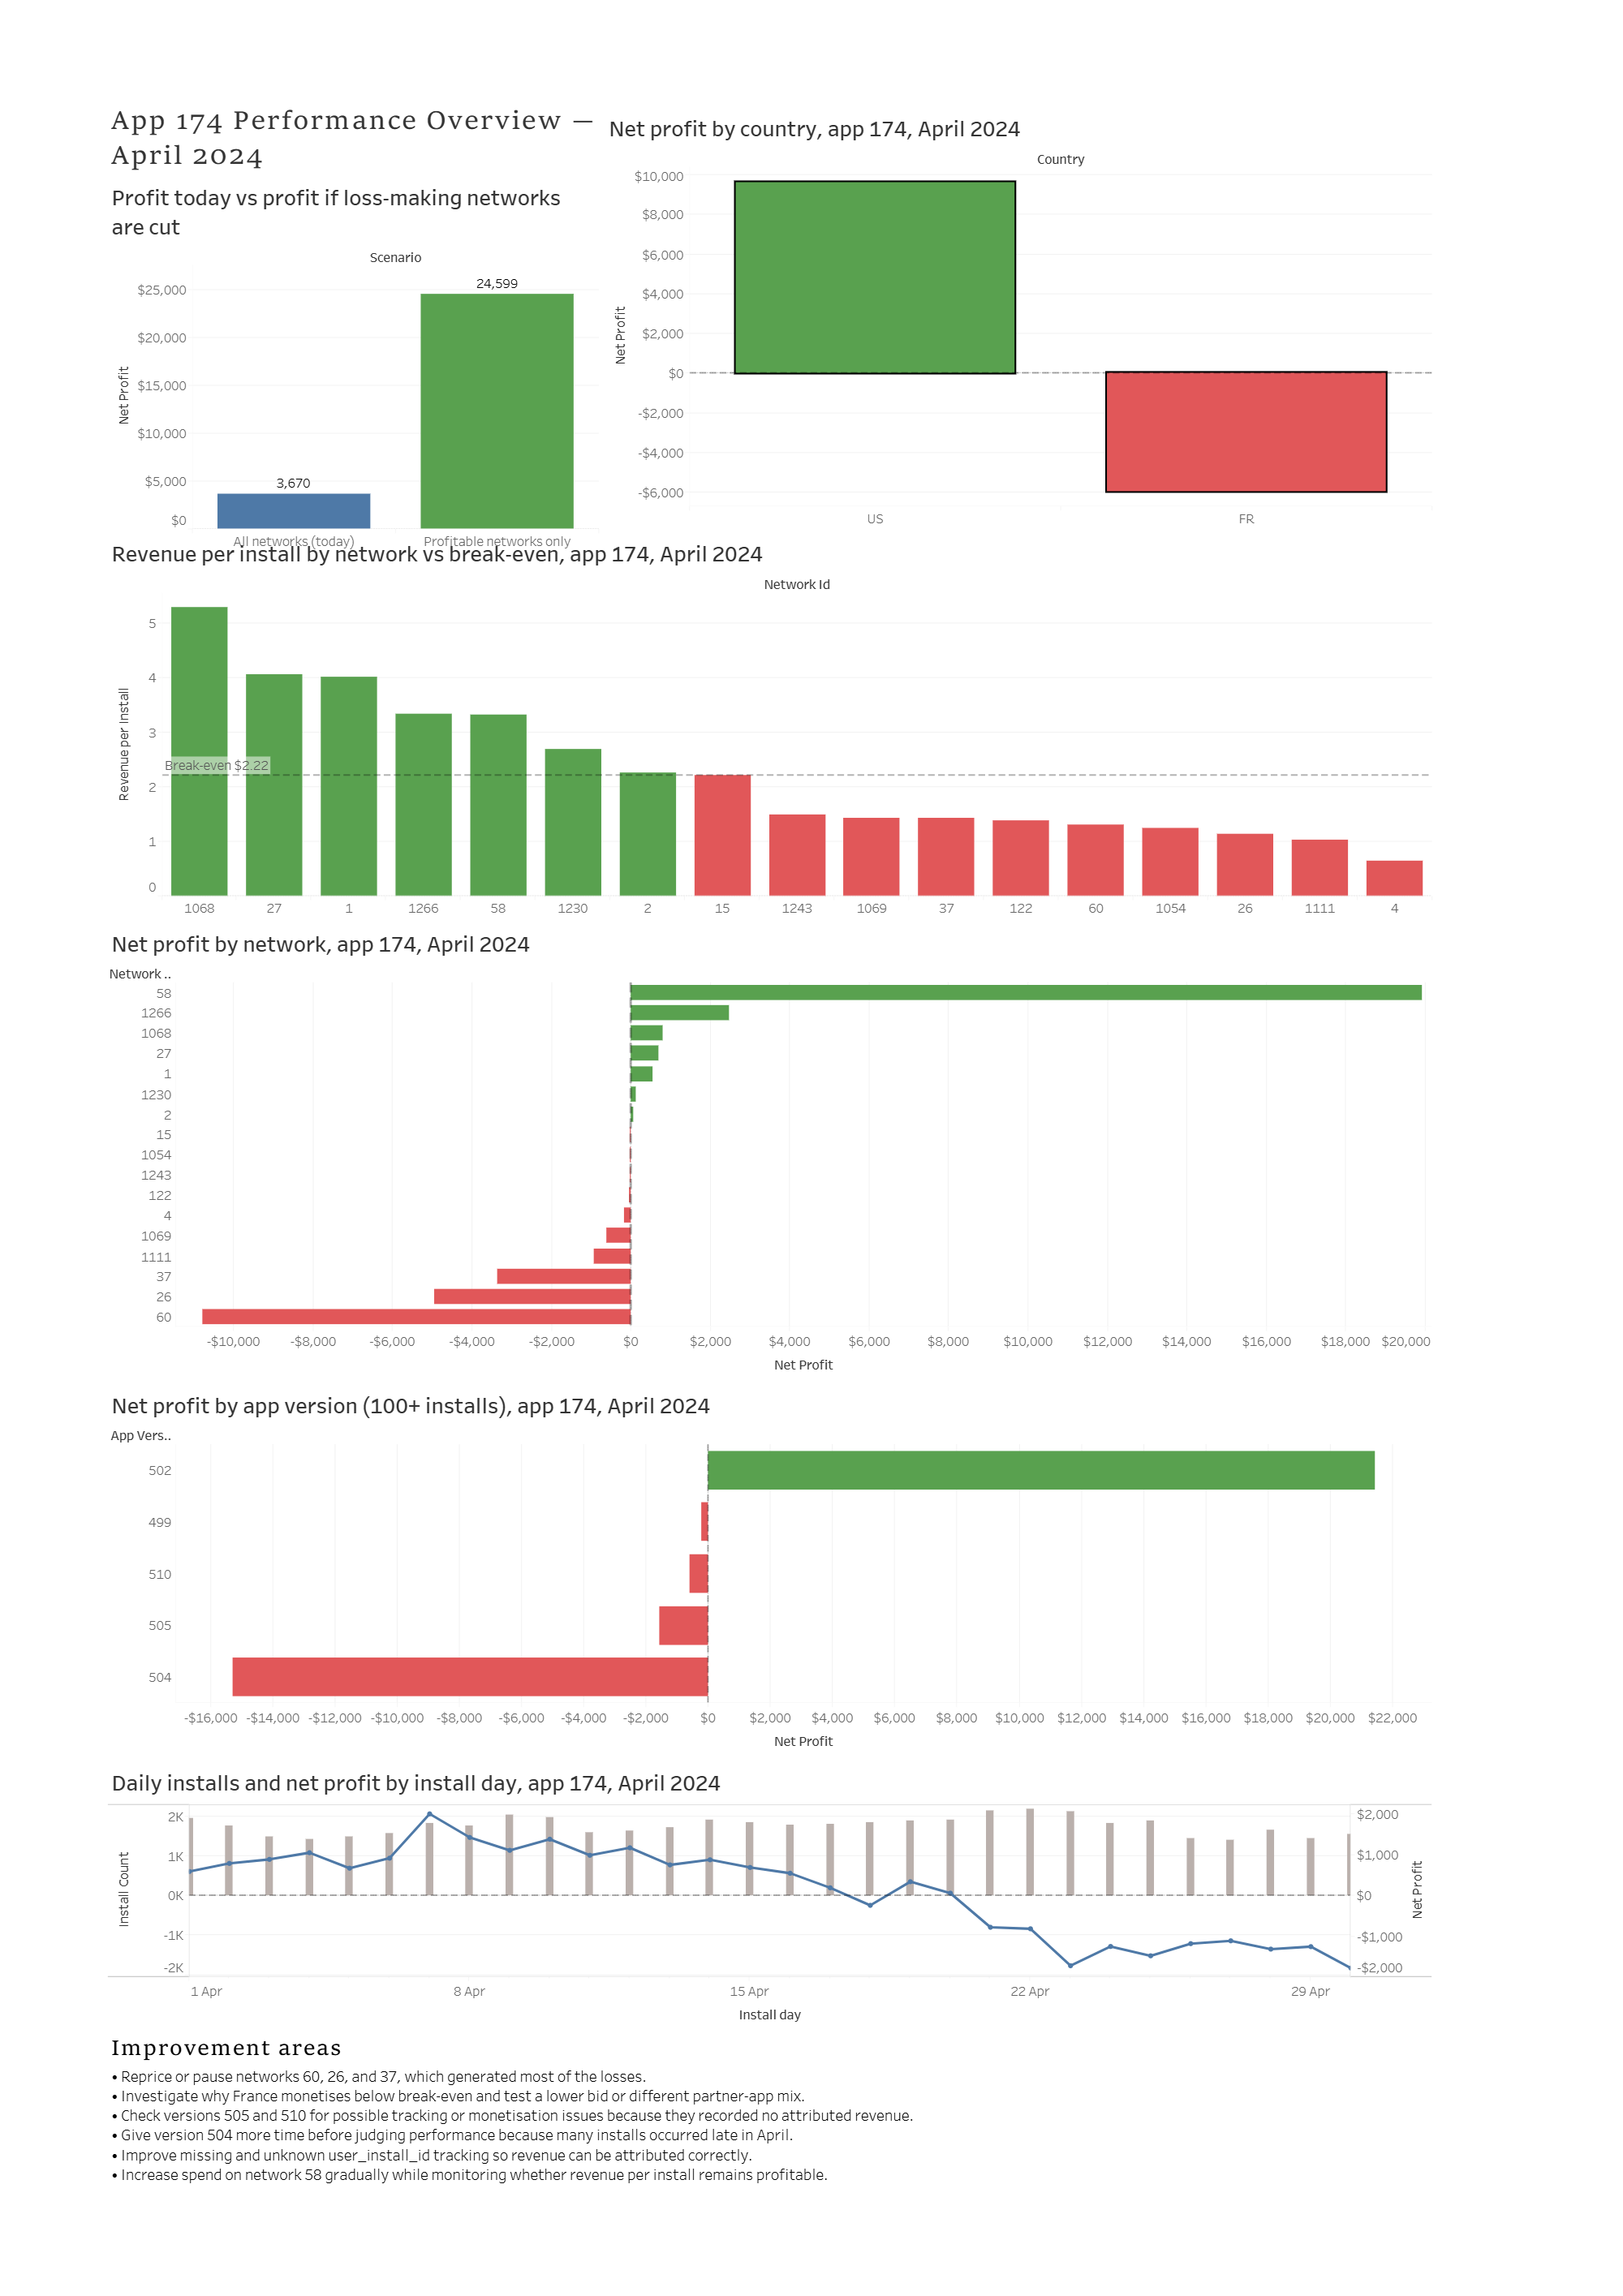

What the dashboard file says about the page in this screenshot:
{"tool":"tableau","page":{"name":"App 174 Performance Overview — April 2024","canvas":[1600,2500],"ordinal":0},"visuals":[{"type":"worksheet","title":"Profit today vs profit if loss-making networks are cut","mark":"Bar","rows":["net_profit"],"cols":["scenario"],"box":[8,8,592,473]},{"type":"worksheet","title":"Net profit by country, app 174, April 2024","mark":"Bar","rows":["net_profit"],"cols":["country"],"box":[600,8,992,473]},{"type":"worksheet","title":"Revenue per install by network vs break-even, app 174, April 2024","mark":"Bar","rows":["Calculation_2081665065463808"],"cols":["network_id"],"box":[8,481,1584,497.8]},{"type":"worksheet","title":"Net profit by network, app 174, April 2024","mark":"Automatic","rows":["network_id"],"cols":["net_profit"],"box":[8,978.8,1584,550.7]},{"type":"worksheet","title":"Net profit by app version (100+ installs), app 174, April 2024","mark":"Bar","rows":["app_version"],"cols":["net_profit"],"box":[8,1529.5,1584,448.5]},{"type":"worksheet","title":"Daily installs and net profit by install day, app 174, April 2024","mark":"Bar","rows":["install_count","net_profit"],"cols":["install_date"],"box":[8,1978,1584,327]},{"type":"text","box":[8,2305,1584,187]}]}

Visuals, with their boxes on the page's 1600x2500 design canvas (x1, y1, x2, y2). These are canvas units, not pixel positions in the 1623x2296 screenshot, which may show the page scaled, cropped or inside an application window:
"Profit today vs profit if loss-making networks are cut" worksheet (Bar marks): 8 8 600 481
"Net profit by country, app 174, April 2024" worksheet (Bar marks): 600 8 1592 481
"Revenue per install by network vs break-even, app 174, April 2024" worksheet (Bar marks): 8 481 1592 979
"Net profit by network, app 174, April 2024" worksheet: 8 979 1592 1530
"Net profit by app version (100+ installs), app 174, April 2024" worksheet (Bar marks): 8 1530 1592 1978
"Daily installs and net profit by install day, app 174, April 2024" worksheet (Bar marks): 8 1978 1592 2305
text: 8 2305 1592 2492
